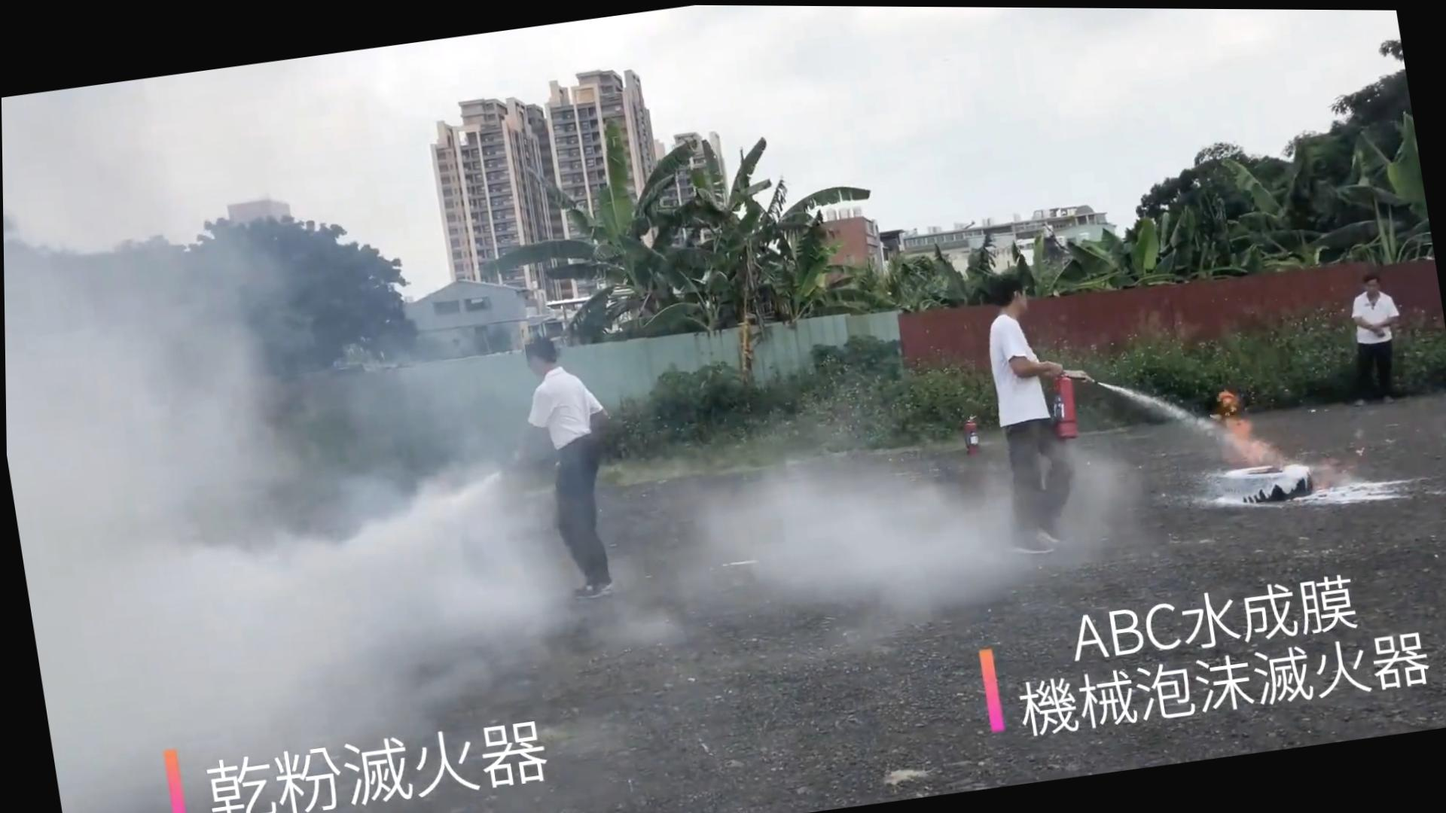FireExtinguisher: (1037, 354, 1092, 451), (952, 404, 986, 479)
